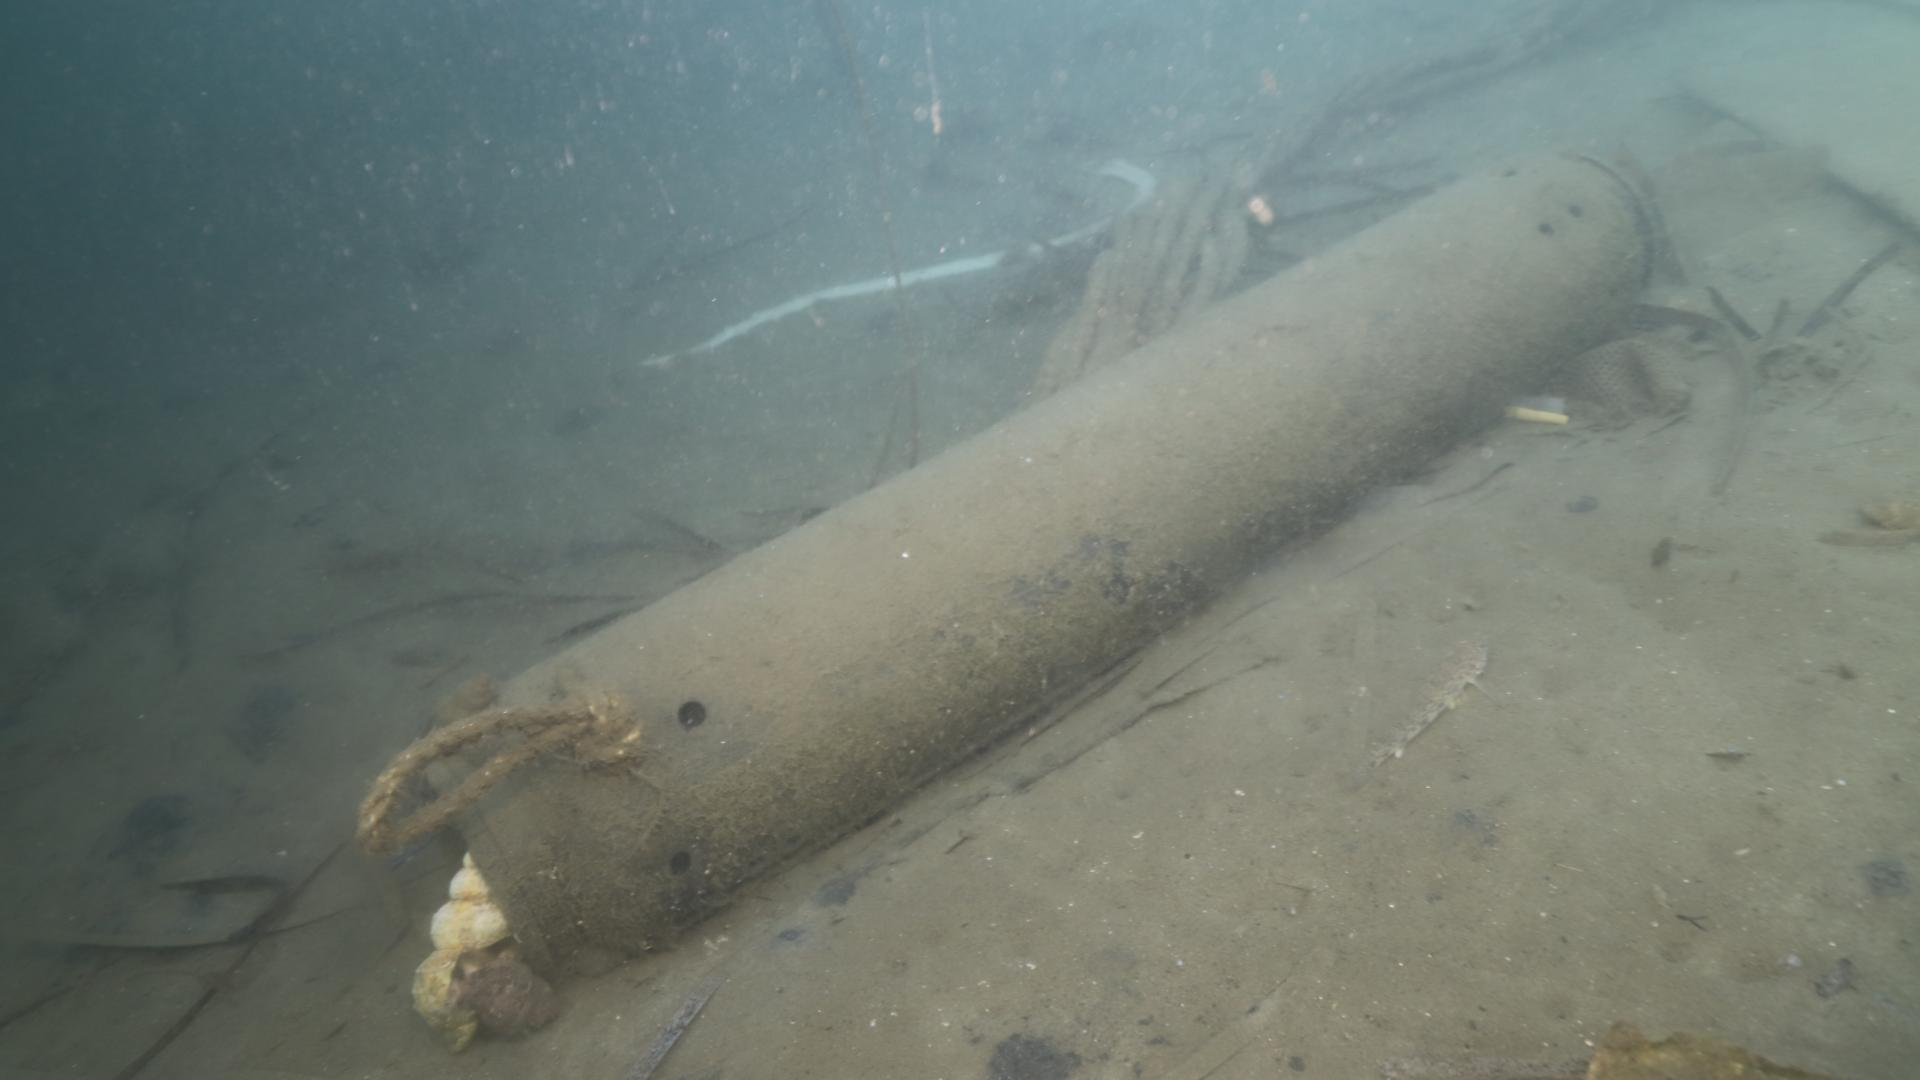bundle of ropes: (1025, 3, 1662, 404), (352, 695, 651, 861)
eel fish trap: (415, 150, 1658, 984)
